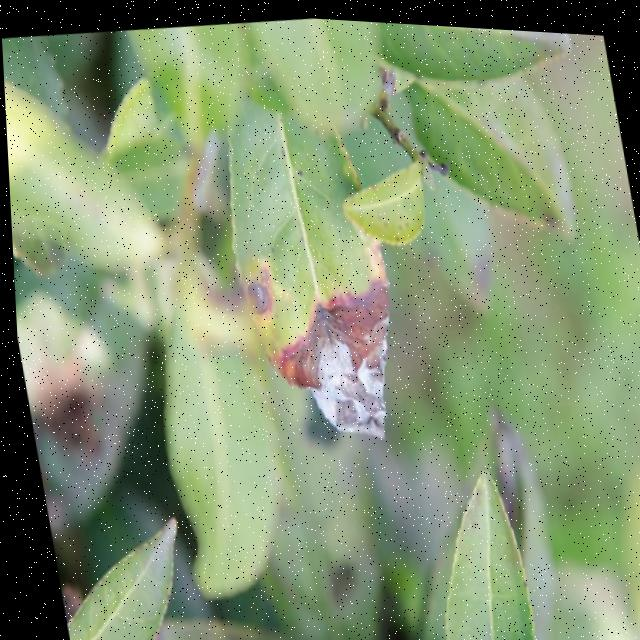Tea cloud leaf blight: (257, 244, 409, 464)
